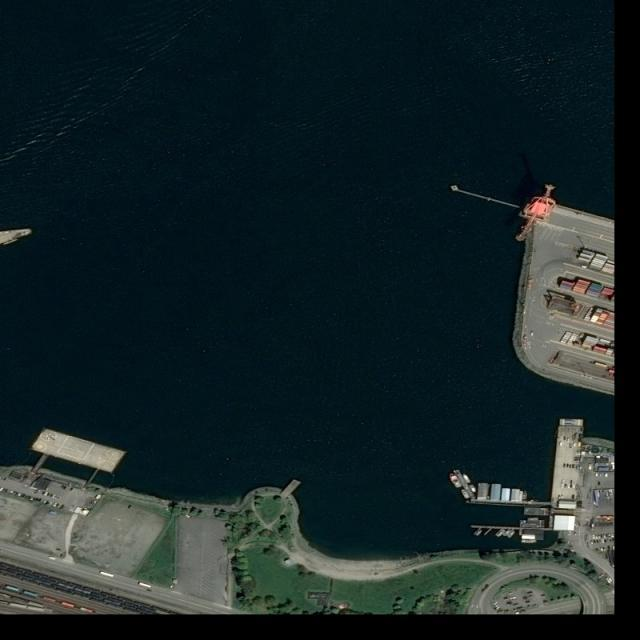ship: (447, 470, 465, 491), (462, 473, 472, 486), (496, 528, 506, 539), (461, 488, 470, 500), (474, 528, 484, 538), (507, 530, 517, 539), (502, 529, 512, 538), (521, 539, 538, 544), (470, 485, 477, 491)
